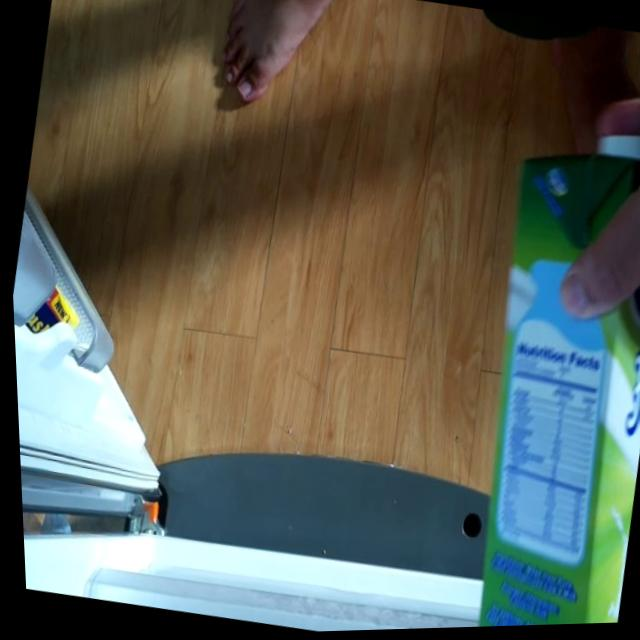milk: (430, 118, 640, 630)
